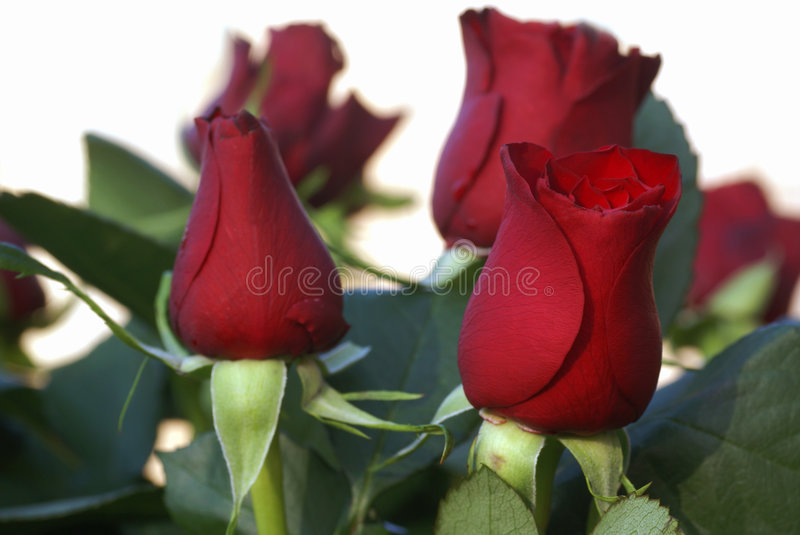RedRose: (457, 132, 689, 454), (168, 84, 346, 371)
